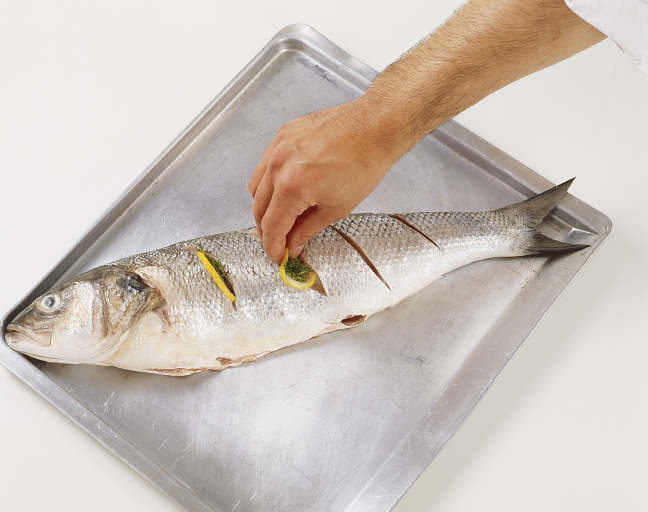fish: (0, 174, 594, 377)
